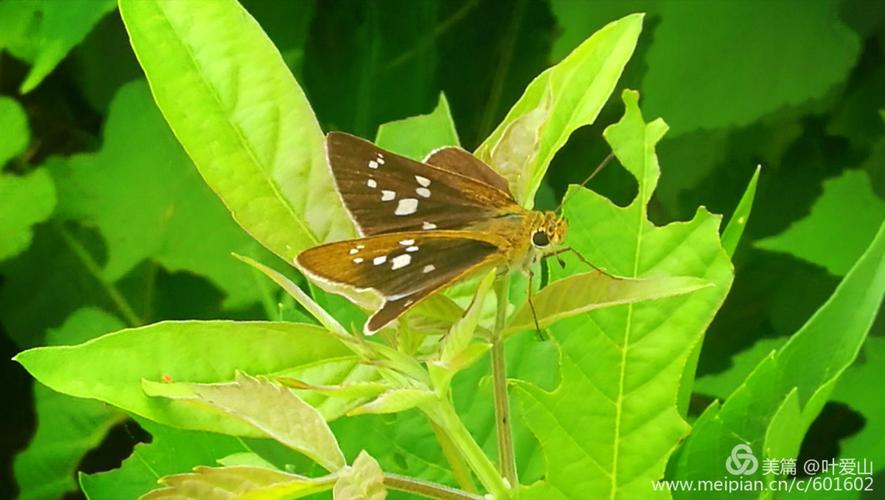Hesperiidae: (301, 136, 641, 338)
